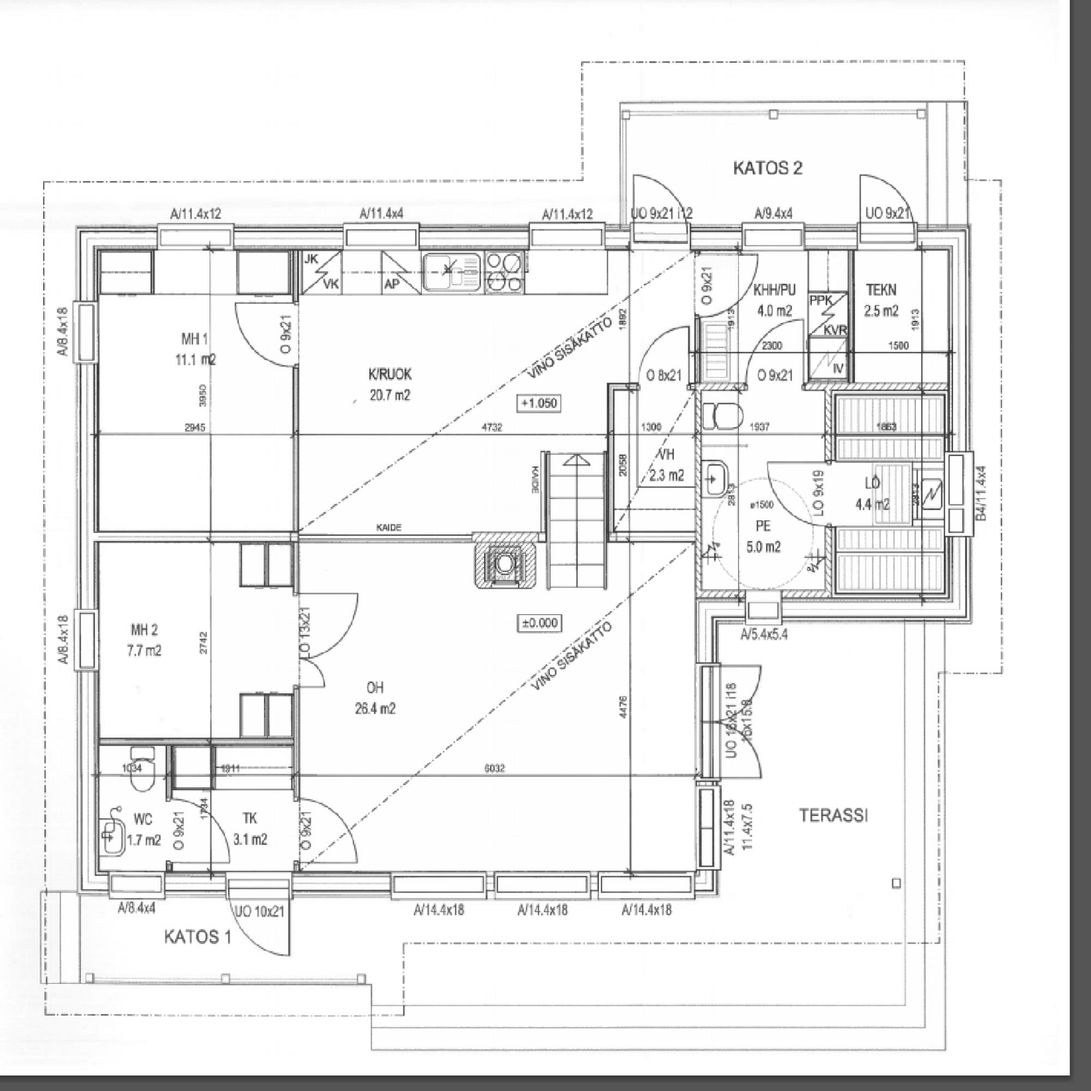wall: (77, 225, 969, 250), (77, 872, 717, 896), (77, 226, 98, 896), (696, 590, 717, 896), (945, 396, 969, 622), (696, 590, 834, 622), (292, 250, 299, 872), (825, 595, 969, 622), (948, 225, 969, 395), (825, 382, 834, 622), (98, 531, 292, 542), (696, 250, 702, 590), (825, 382, 969, 395), (98, 739, 292, 746), (702, 382, 825, 391), (607, 383, 614, 541), (848, 250, 855, 382), (607, 532, 695, 541), (166, 746, 172, 872), (472, 533, 539, 544), (607, 383, 695, 391)
